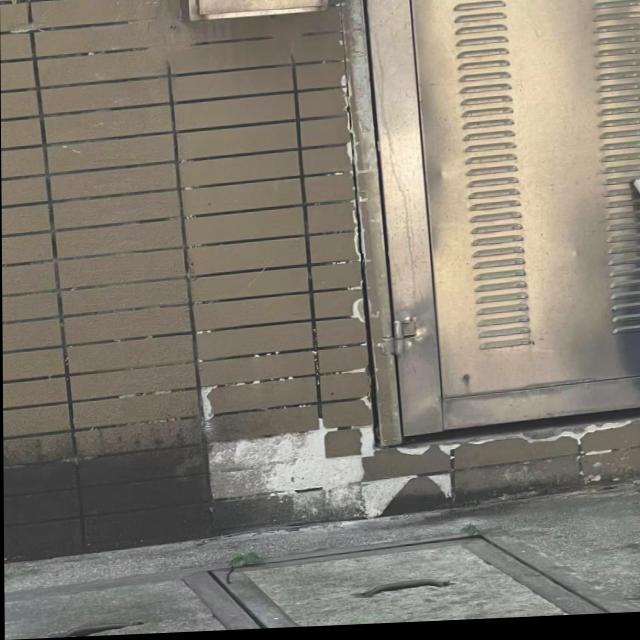spalling: (193, 416, 371, 528), (353, 438, 515, 517)
